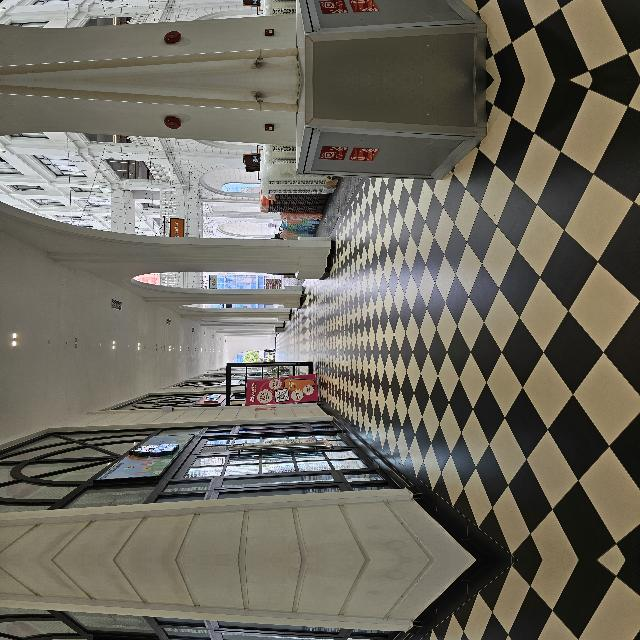obstacle: (380, 374, 480, 566), (379, 554, 480, 640), (150, 301, 202, 399)
